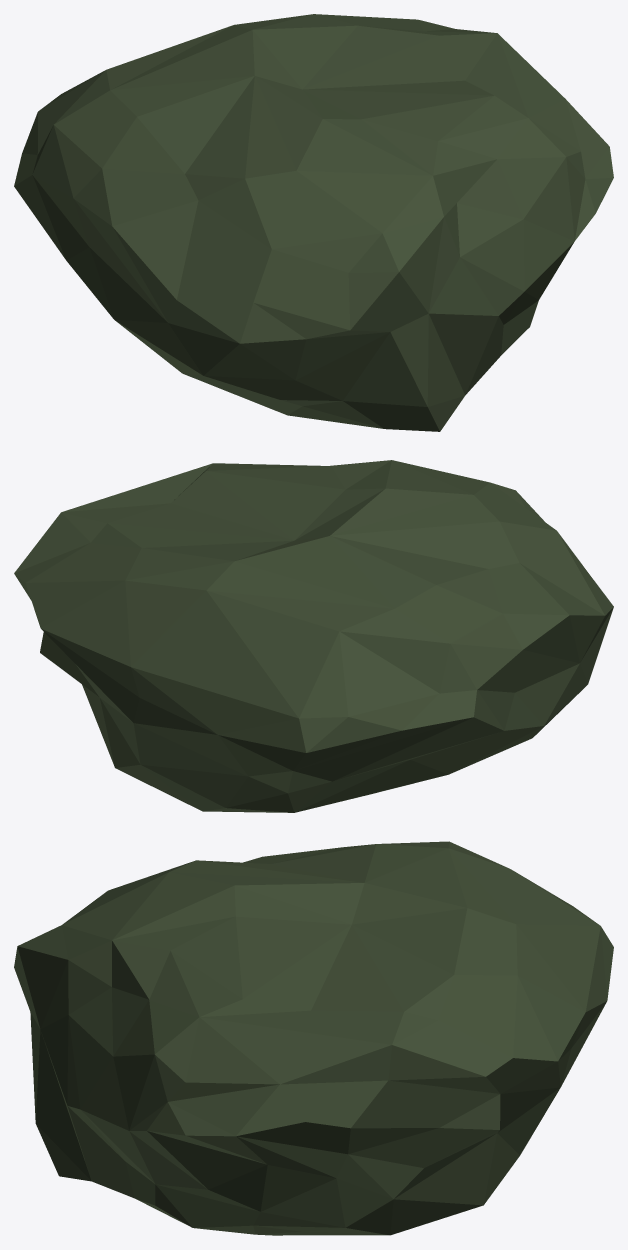
File: S0.stone5.glb
The picture shows the model from 3 angles, top to bottom: view 1: azimuth 30°, elevation 25°; view 2: azimuth 150°, elevation 25°; view 3: azimuth 270°, elevation 25°; orthographic projection. The views are drawn at different scales.
Visible parts, largest first — view 1: Landscape.012; view 2: Landscape.012; view 3: Landscape.012.
Boxes of the visible parts, <box> form: Landscape.012: <box>14,14,613,431</box>; Landscape.012: <box>14,460,613,812</box>; Landscape.012: <box>14,841,613,1235</box>.
Bounding box in the file's own units: 3.18 × 1.63 × 3.23.
